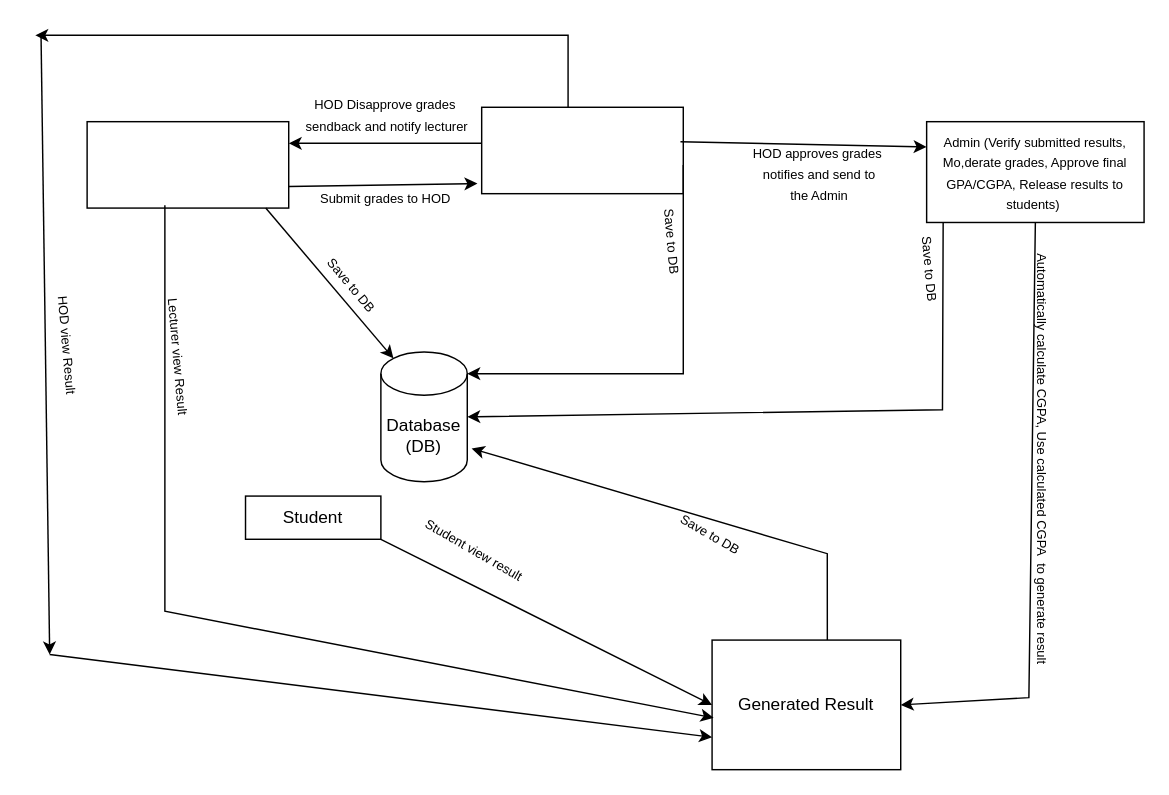
This 1169x795 diagram has some shape labels left out. Each missing label, with the centre of its shape:
HOD(Reviews Grades): (x=581, y=150)
Lecturer(Add Grade): (x=187, y=164)
